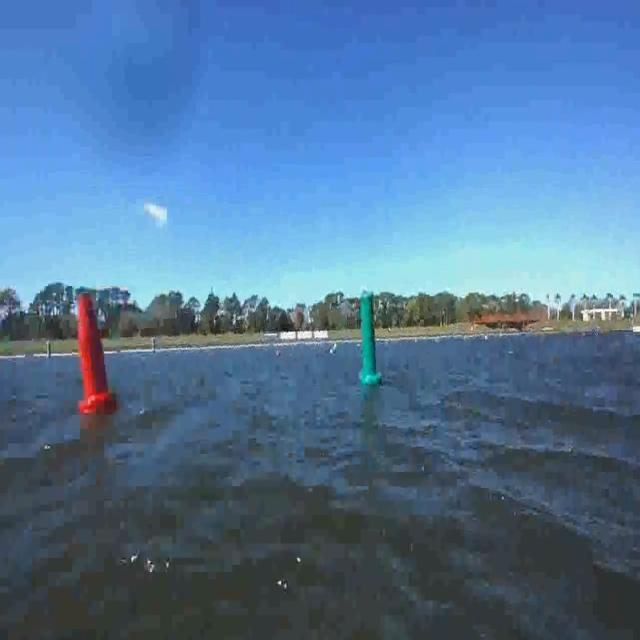green-column-buoy: (358, 290, 382, 386)
red-column-buoy: (78, 293, 118, 414)
